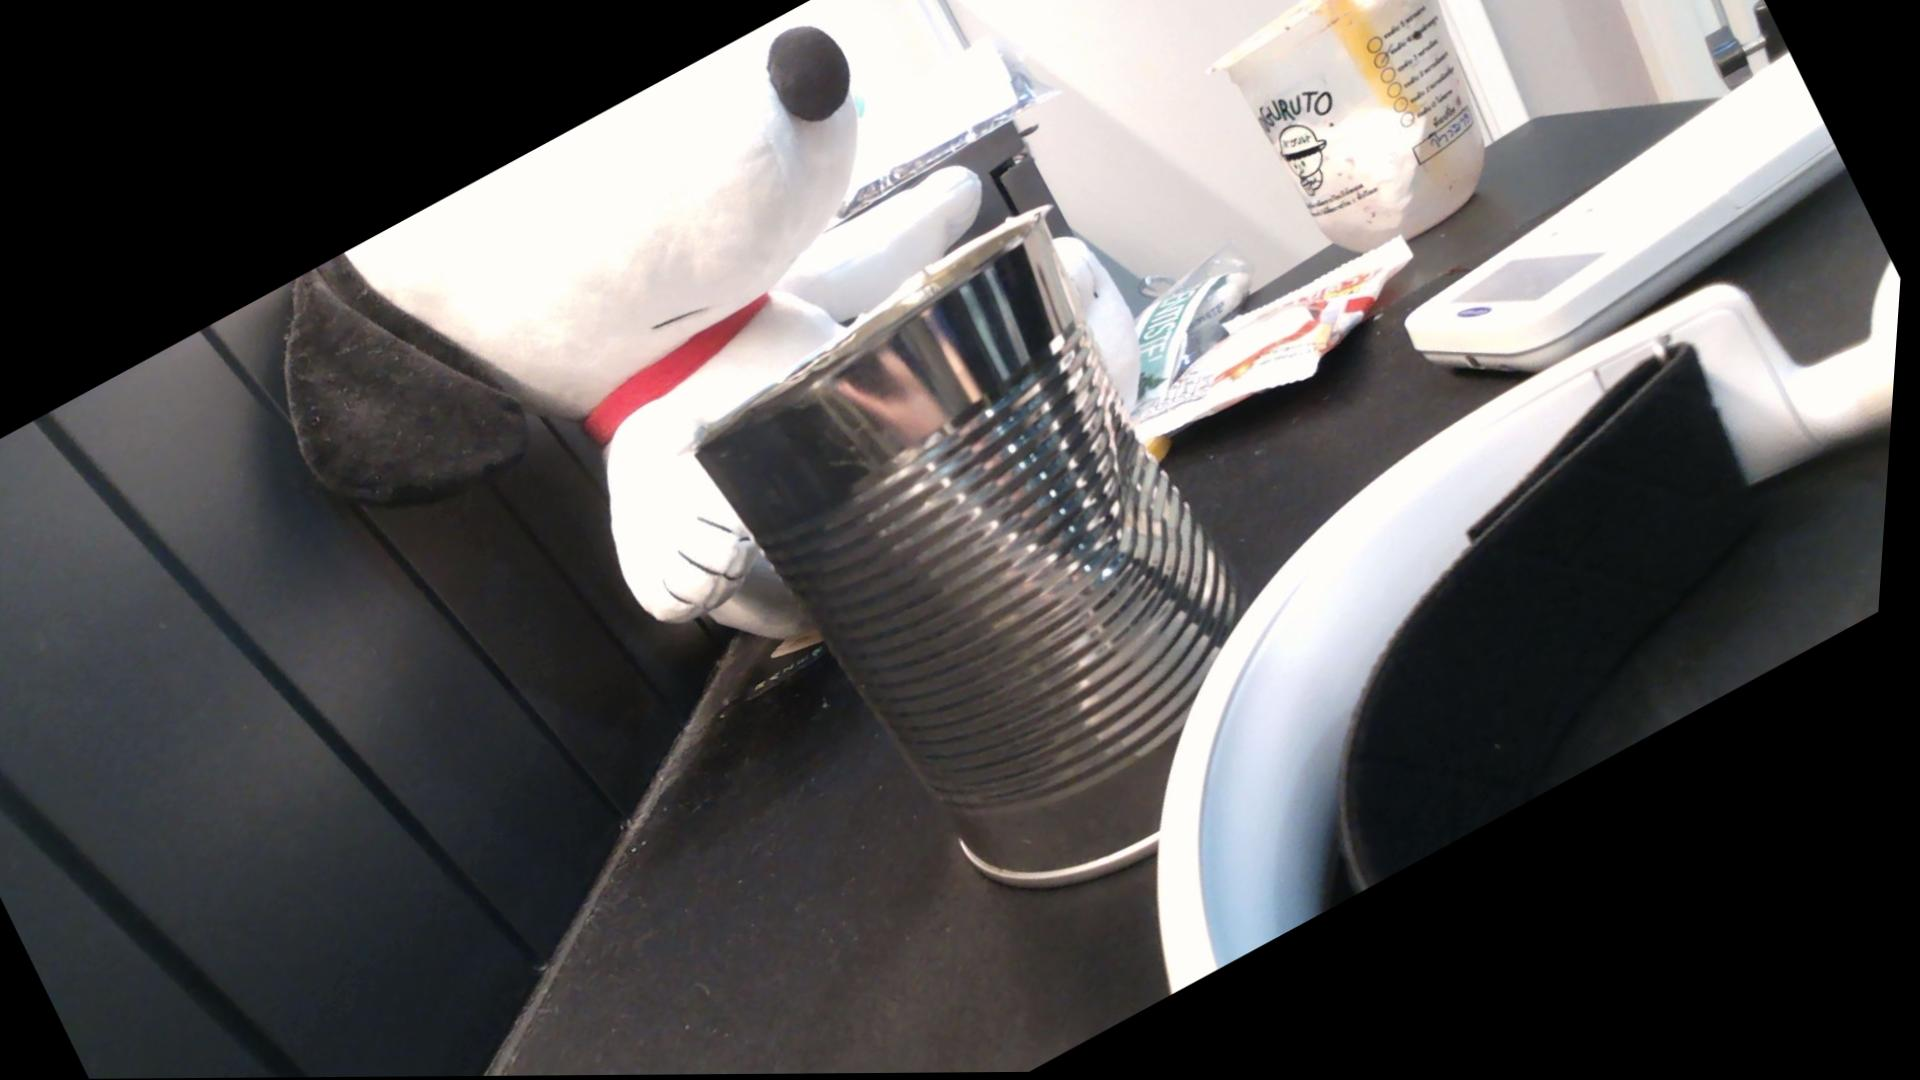metal: (700, 212, 1384, 881)
